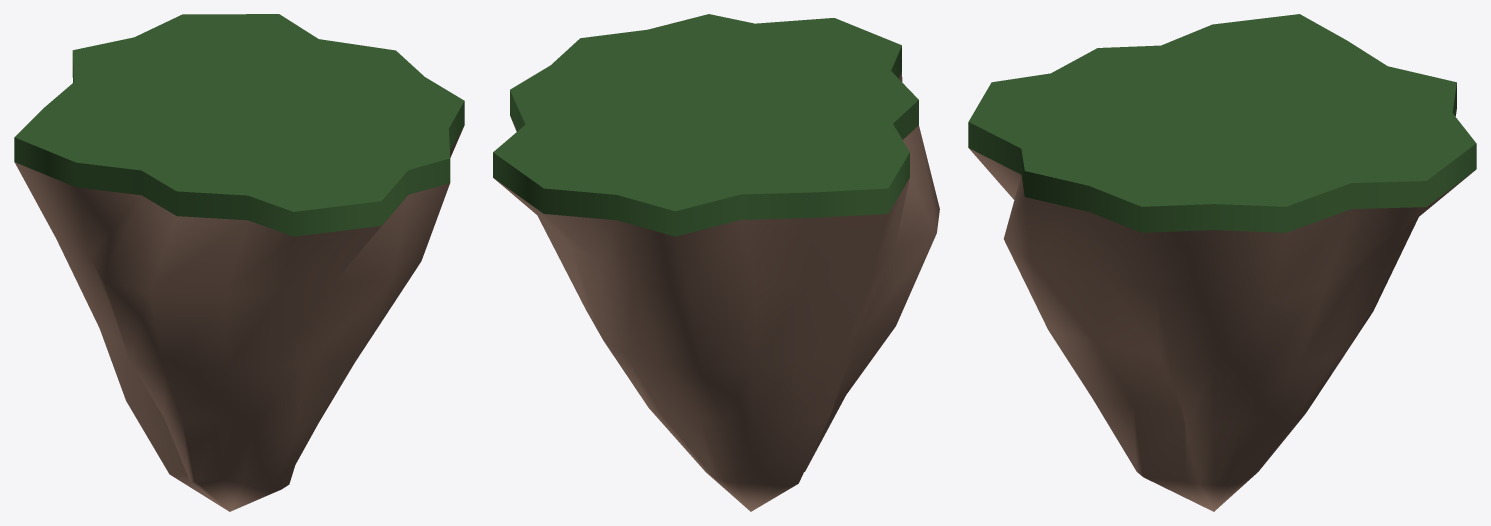
File: Floatin Island.fbx
3 renders of one model, left to right at view 1: azimuth 30°, elevation 25°; view 2: azimuth 150°, elevation 25°; view 3: azimuth 270°, elevation 25°, orthographic. The views are drawn at different scales.
Visible parts, largest first — view 1: pCone2; view 2: pCone2; view 3: pCone2.
Part boxes in pixels (x1,y1,x2,y2): pCone2: [14, 14, 464, 511]; pCone2: [493, 14, 939, 511]; pCone2: [968, 14, 1476, 511].
Size of the model in its own units: 195 by 193 by 217.
